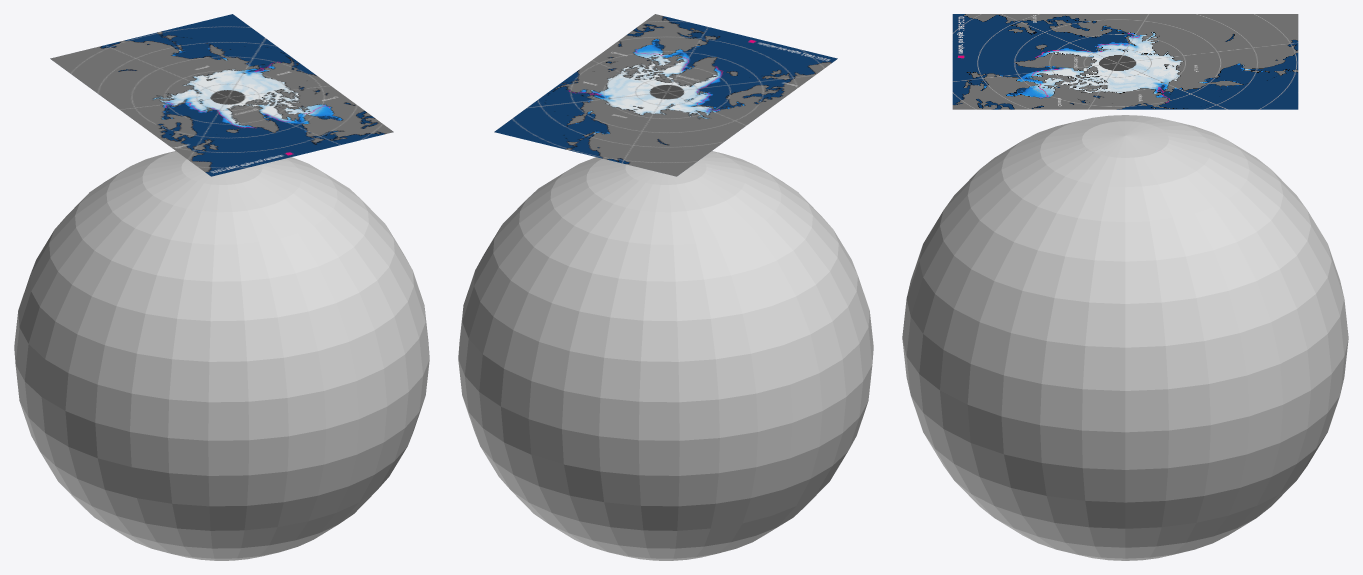
File: Globe.glb
3 renders of one model, left to right at view 1: azimuth 30°, elevation 25°; view 2: azimuth 150°, elevation 25°; view 3: azimuth 270°, elevation 25°, orthographic. The views are drawn at different scales.
Parts seen in each view (by area): view 1: Sphere, ImagePlane; view 2: Sphere, ImagePlane; view 3: Sphere, ImagePlane.
Boxes of the visible parts, x1,y1,x2,y2 form: Sphere: (14, 151, 429, 560); ImagePlane: (50, 14, 393, 176); Sphere: (458, 151, 873, 560); ImagePlane: (494, 14, 837, 176); Sphere: (902, 115, 1348, 560); ImagePlane: (952, 14, 1298, 109).
Bounding box in the file's own units: 53.98 × 63.83 × 53.98.
Materials: 1 (1 with a texture image).
